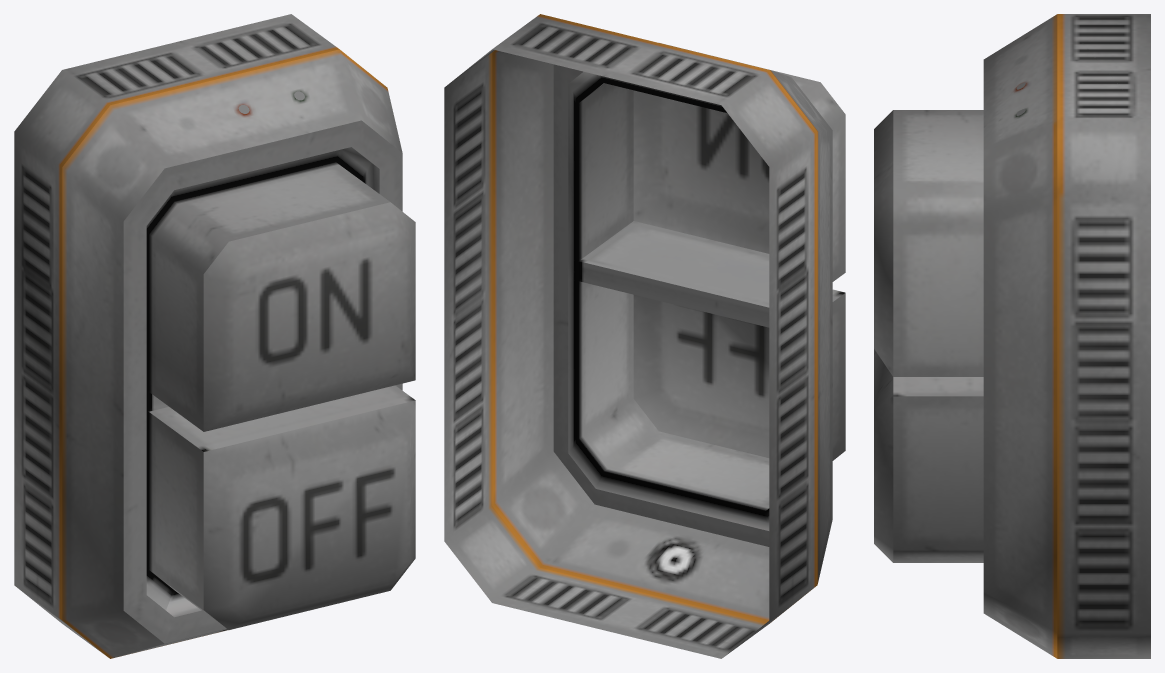
The model's file is Button B1E.fbx.
3 views of the same model, side by side, from view 1: azimuth 30°, elevation 25°; view 2: azimuth 150°, elevation 25°; view 3: azimuth 270°, elevation 25° (orthographic). The views are drawn at different scales.
Parts seen in each view (by area): view 1: Button B1E, ButtonHandle B1E1, ButtonHandle B1E2; view 2: Button B1E, ButtonHandle B1E1, ButtonHandle B1E2; view 3: Button B1E, ButtonHandle B1E1, ButtonHandle B1E2.
Boxes of the visible parts, x1,y1,x2,y2 form: Button B1E: (14, 14, 402, 658); ButtonHandle B1E1: (148, 162, 415, 431); ButtonHandle B1E2: (148, 385, 415, 629); Button B1E: (444, 14, 832, 658); ButtonHandle B1E1: (578, 43, 845, 307); ButtonHandle B1E2: (578, 281, 845, 510); Button B1E: (983, 14, 1150, 658); ButtonHandle B1E1: (874, 110, 983, 376); ButtonHandle B1E2: (874, 349, 983, 562).
Size of the model in its own units: 6.8 by 11.06 by 5.17.
3 materials, 1 textured.
